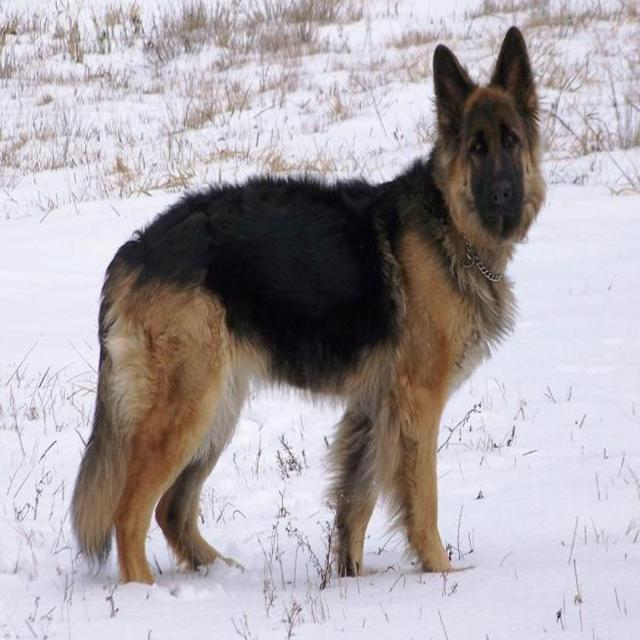dog: (374, 0, 593, 291)
